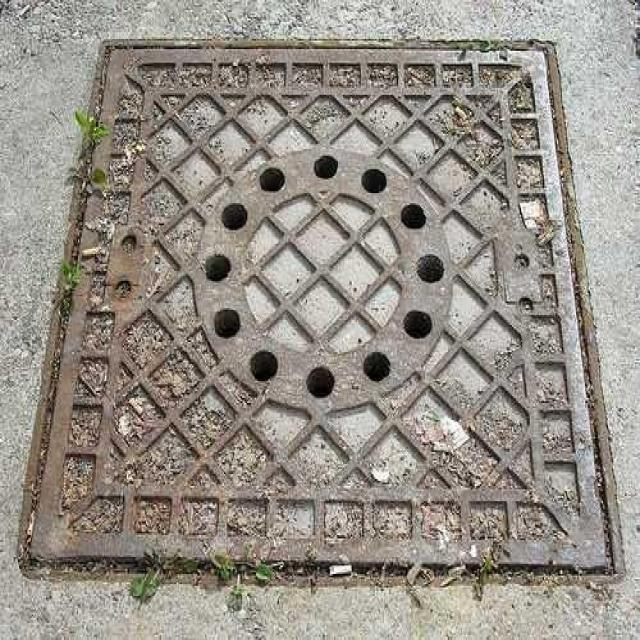manhole: (18, 39, 621, 599)
